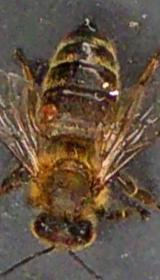varroa_mite: (28, 102, 64, 126)
